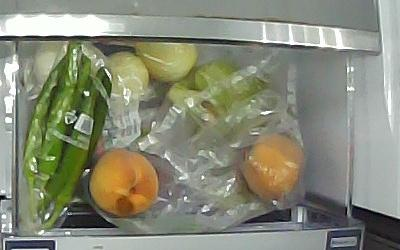peach: (87, 148, 158, 216)
peach_vinyl: (242, 129, 305, 203)
